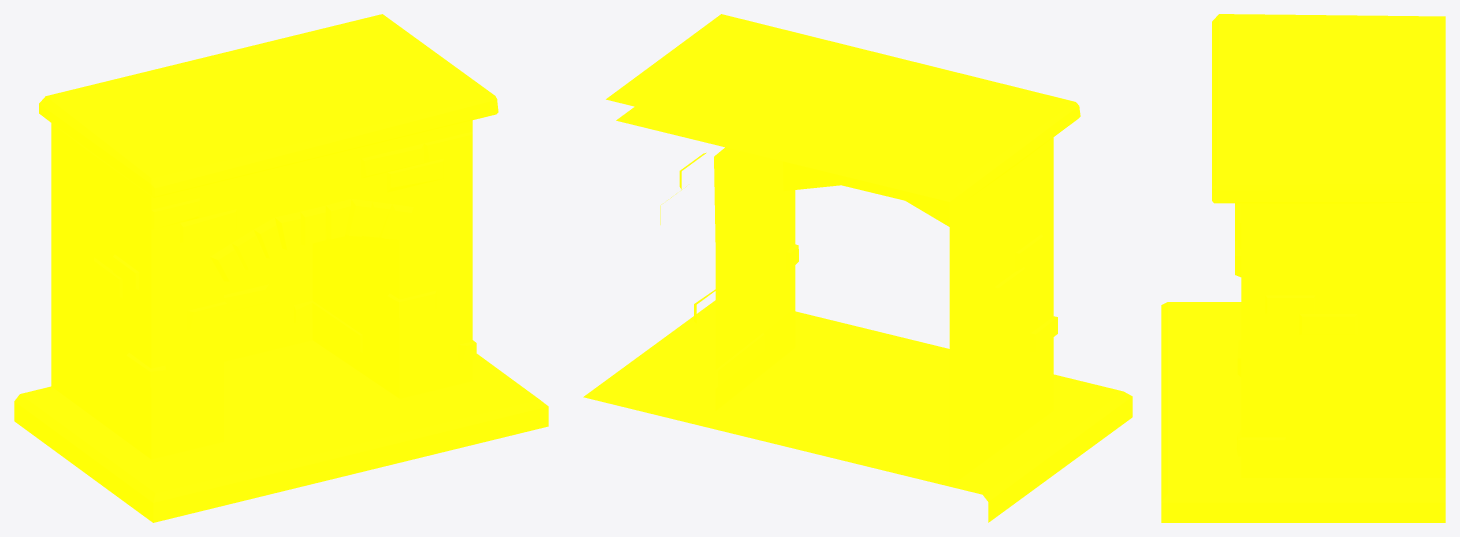
The model's file is fireplace-brick.glb.
3 renders of one model, left to right at view 1: azimuth 30°, elevation 25°; view 2: azimuth 150°, elevation 25°; view 3: azimuth 270°, elevation 25°, orthographic. The views are drawn at different scales.
Parts seen in each view (by area): view 1: fireplace_brick; view 2: fireplace_brick; view 3: fireplace_brick.
Boxes of the visible parts, box(x1,y1,x2,y2) form: fireplace_brick: box(14, 14, 548, 522); fireplace_brick: box(583, 14, 1132, 522); fireplace_brick: box(1161, 14, 1445, 522).
Bounding box in the file's own units: 1.6 × 1.23 × 0.9734.
Materials: 1 (1 with a texture image).
